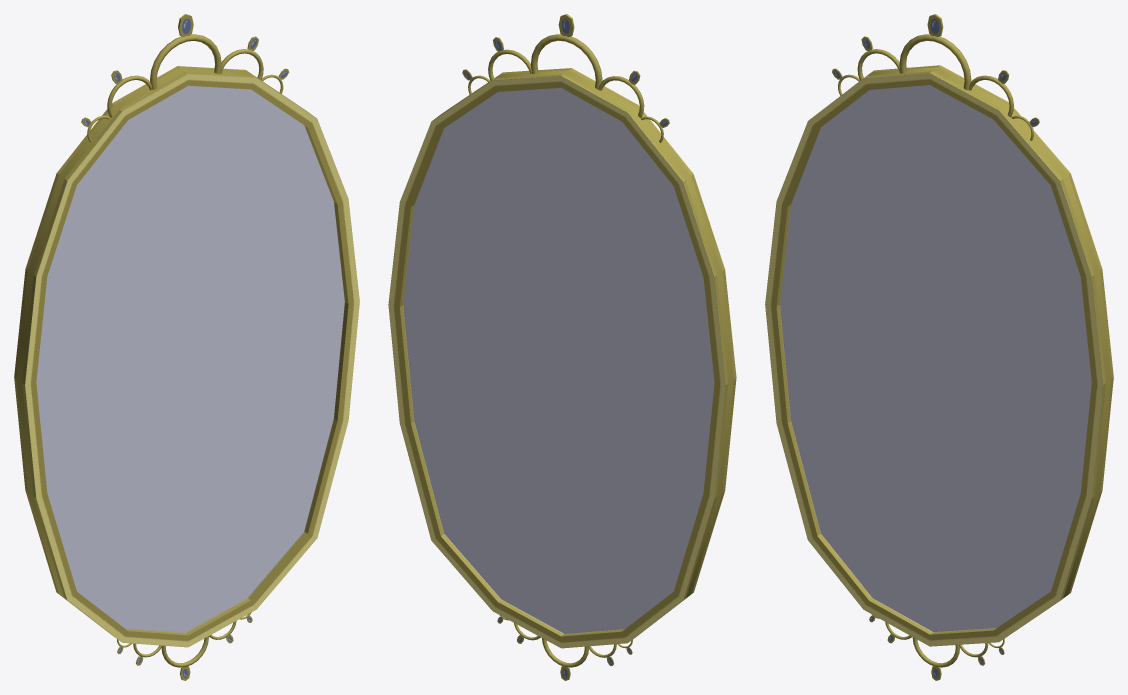
The model's file is Espejo.FBX.
3 renders of one model, left to right at view 1: azimuth 30°, elevation 25°; view 2: azimuth 150°, elevation 25°; view 3: azimuth 330°, elevation 25°, orthographic.
Visible parts, largest first — view 1: Espejo; view 2: Espejo; view 3: Espejo.
Part boxes in pixels (x1,y1,x2,y2): Espejo: (14,14,359,680); Espejo: (388,14,736,680); Espejo: (765,14,1113,680).
Bounding box in the file's own units: 108 × 204 × 6.9.
Materials: 1 (1 with a texture image).
